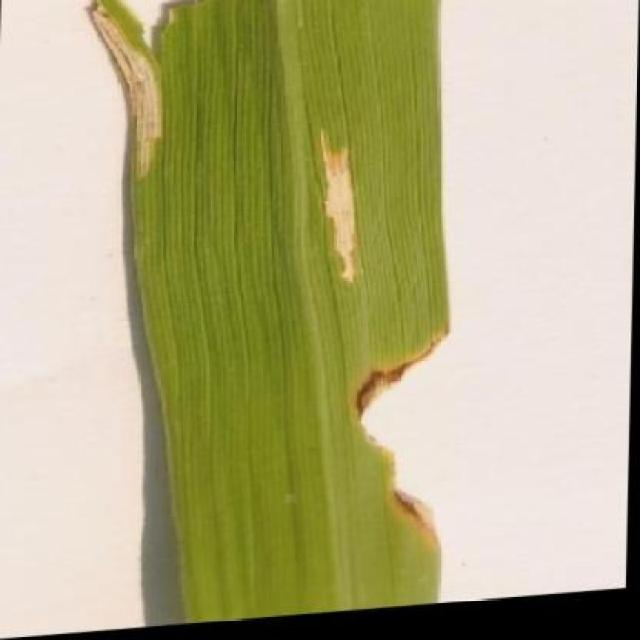Brown_Spot: (46, 0, 475, 635)
